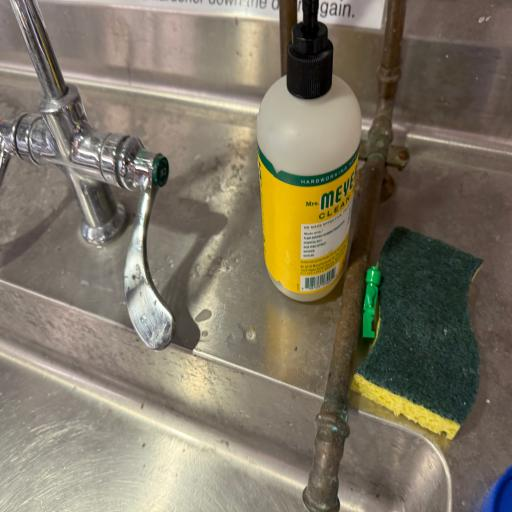Lego-Dude: (363, 267, 378, 338)
